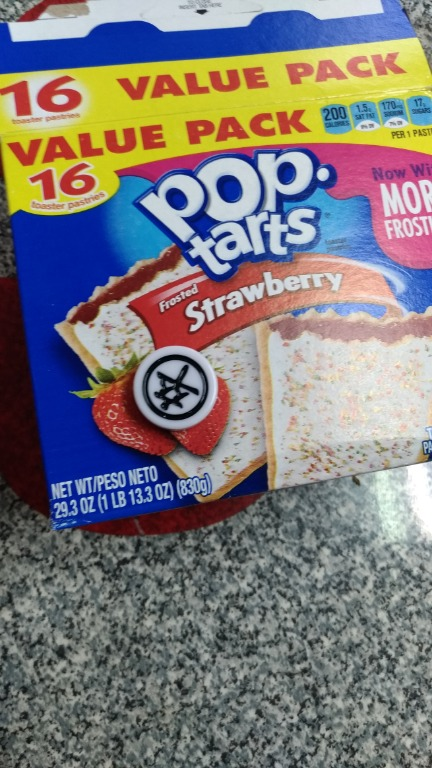b-pawn: (131, 338, 230, 435)
